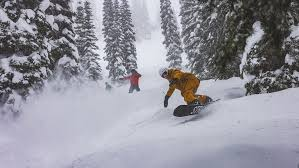snowboard: (172, 97, 219, 118)
